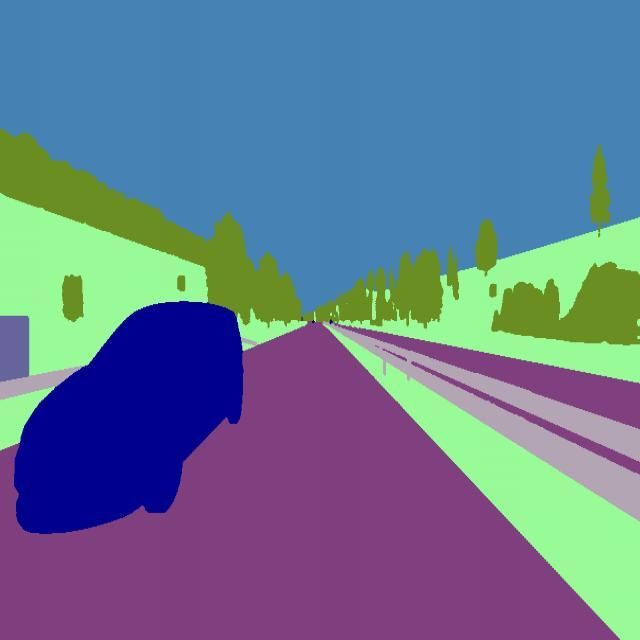unsafe: (12, 298, 246, 536)
